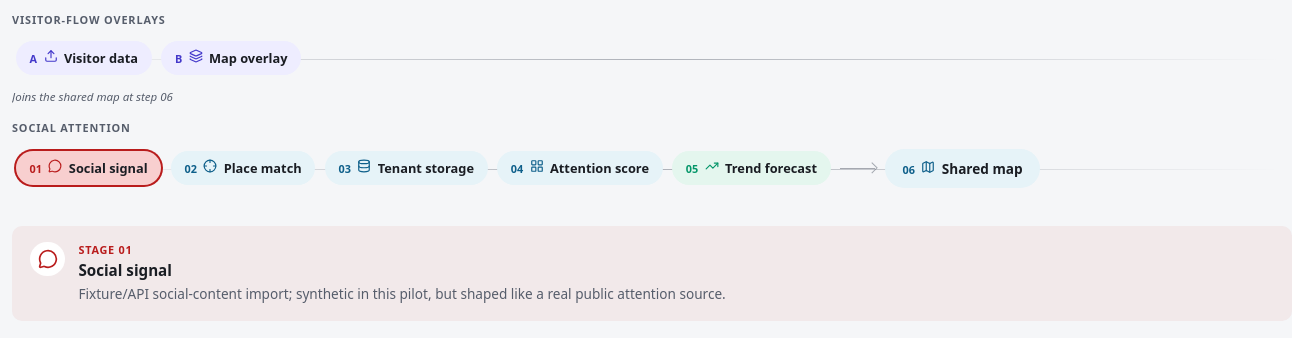
Test: PipelineStepper › shows compact labels and reveals the selected step detail
Check: the message shows "Social signal", box [78,260,172,280]
Check: the message shows "Fixture/API social-content import", box [78,284,726,303]
Click the button "A Visitor data": point(84, 58) [16,41,152,75]
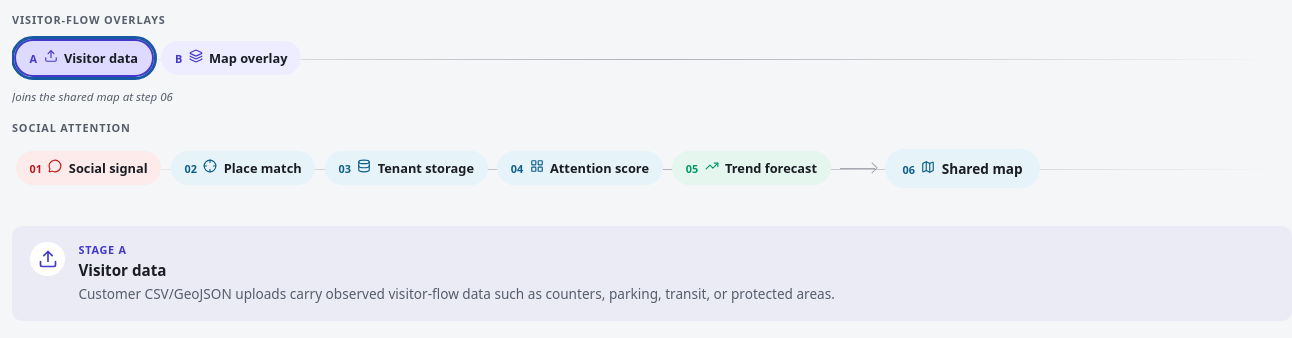
Check: the message shows "Visitor data", box [78,260,166,280]
Check: the message shows "Customer CSV/GeoJSON uploads", box [78,284,835,303]
